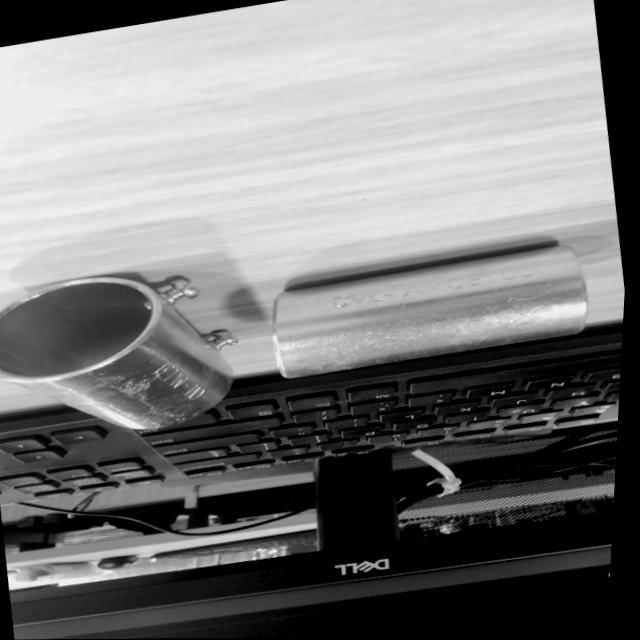Co_Lon: (0, 272, 236, 431)
Co_Nho: (265, 241, 592, 378)
